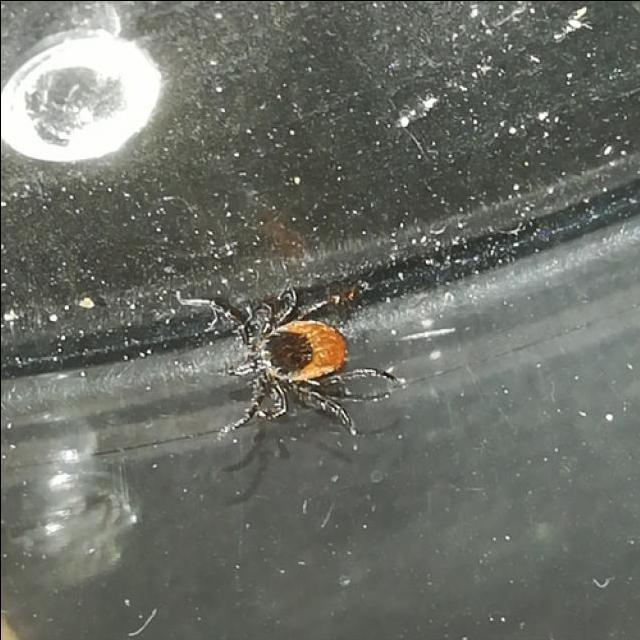Ixodes Ricinus-F: (178, 287, 394, 434)
